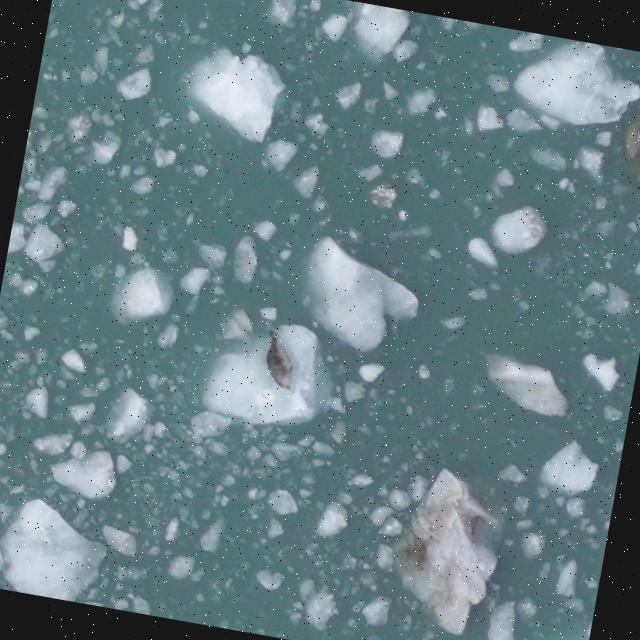seal: (252, 324, 305, 394)
